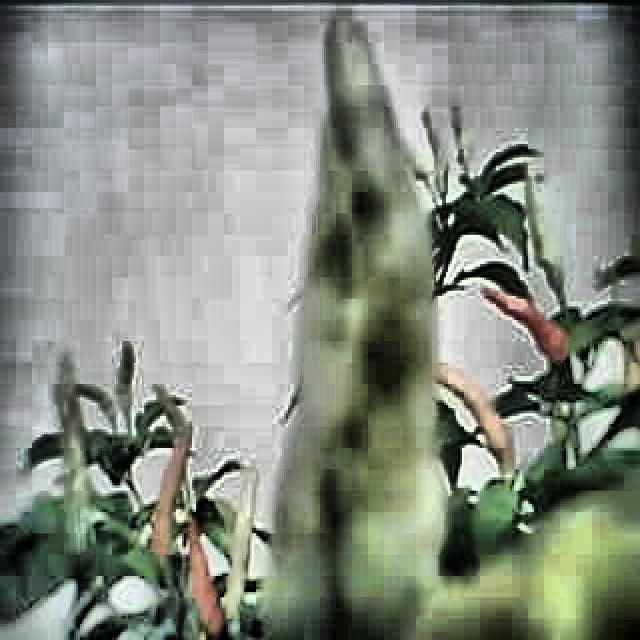Cabai: (309, 29, 445, 640), (33, 338, 92, 545), (454, 378, 541, 481), (480, 274, 560, 375), (148, 411, 195, 570), (182, 522, 219, 637), (108, 333, 140, 410)
